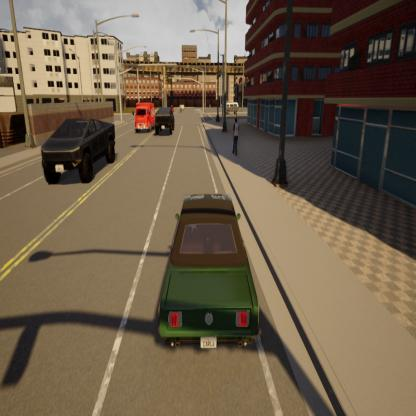Cars: (159, 196, 258, 353), (41, 118, 116, 185), (134, 100, 155, 133), (155, 105, 174, 133), (224, 98, 241, 116), (169, 102, 175, 117), (178, 101, 184, 112)
Pedestrian: (231, 119, 241, 158)
